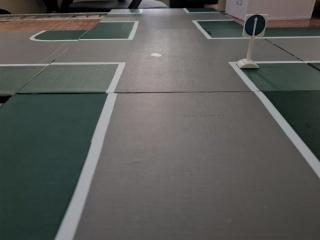straight: (239, 8, 270, 39)
